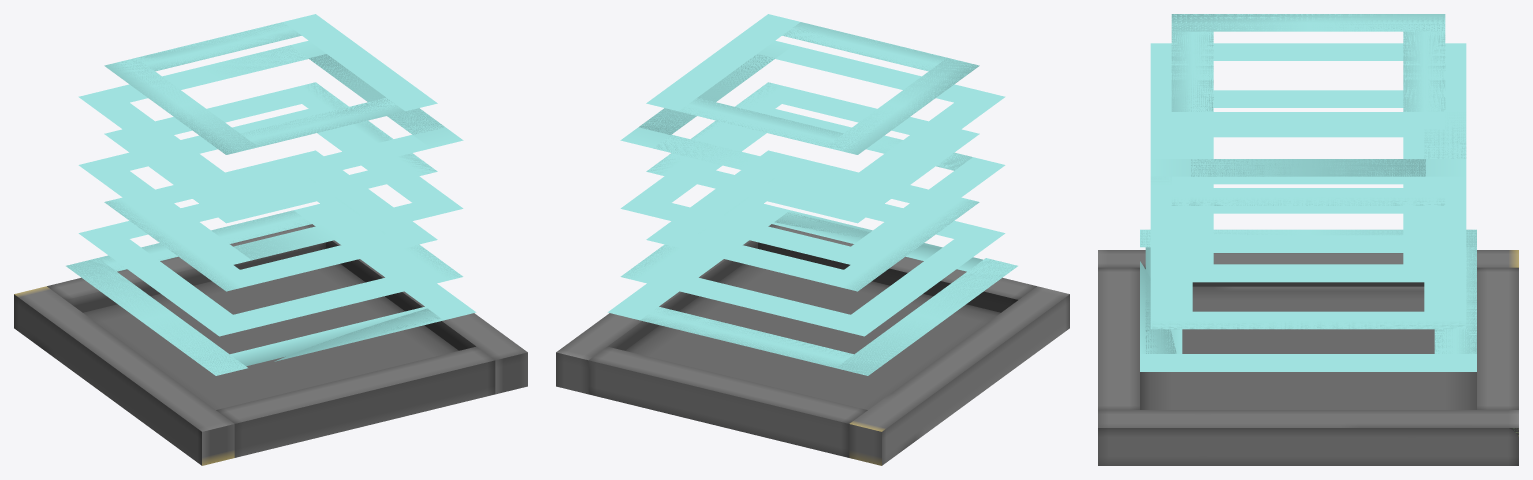
File: rotatePad-lit-0.fbx
3 views of the same model, side by side, from view 1: azimuth 30°, elevation 25°; view 2: azimuth 150°, elevation 25°; view 3: azimuth 270°, elevation 25° (orthographic). The views are drawn at different scales.
Visible parts, largest first — view 1: cube, cube_4, cube_2, cube_5, cube_11, cube_19, cube_26, cube_1, cube_30, cube_32, cube_8, cube_16 (+21 smaller); view 2: cube, cube_3, cube_2, cube_5, cube_11, cube_19, cube_26, cube_1, cube_30, cube_32, cube_7, cube_10 (+21 smaller); view 3: cube, cube_1, cube_6, cube_9, cube_3, cube_4, cube_17, cube_28, cube_15, cube_2, cube_21, cube_30 (+21 smaller).
Boxes of the visible parts, bbox=[...] form: cube: bbox=[83, 264, 458, 409]; cube_4: bbox=[216, 346, 495, 457]; cube_2: bbox=[14, 286, 234, 465]; cube_5: bbox=[66, 258, 247, 375]; cube_11: bbox=[78, 225, 251, 336]; cube_19: bbox=[78, 157, 251, 268]; cube_26: bbox=[78, 89, 251, 199]; cube_1: bbox=[310, 224, 527, 394]; cube_30: bbox=[104, 57, 258, 154]; cube_32: bbox=[283, 14, 437, 111]; cube_8: bbox=[230, 306, 443, 366]; cube_16: bbox=[233, 271, 430, 328]; cube: bbox=[625, 264, 1000, 409]; cube_3: bbox=[588, 346, 867, 457]; cube_2: bbox=[849, 286, 1069, 465]; cube_5: bbox=[836, 258, 1017, 375]; cube_11: bbox=[832, 225, 1005, 336]; cube_19: bbox=[832, 157, 1005, 268]; cube_26: bbox=[832, 89, 1005, 199]; cube_1: bbox=[556, 224, 773, 394]; cube_30: bbox=[825, 57, 979, 154]; cube_32: bbox=[646, 14, 800, 111]; cube_7: bbox=[640, 306, 853, 367]; cube_10: bbox=[653, 271, 850, 328]; cube: bbox=[1140, 286, 1476, 409]; cube_1: bbox=[1098, 410, 1518, 465]; cube_6: bbox=[1140, 354, 1476, 371]; cube_9: bbox=[1150, 311, 1466, 329]; cube_3: bbox=[1477, 267, 1518, 436]; cube_4: bbox=[1098, 267, 1139, 409]; cube_17: bbox=[1150, 235, 1466, 252]; cube_28: bbox=[1150, 159, 1466, 176]; cube_15: bbox=[1171, 264, 1445, 282]; cube_2: bbox=[1098, 250, 1518, 286]; cube_21: bbox=[1171, 188, 1445, 205]; cube_30: bbox=[1171, 14, 1445, 31].
Size of the model in its own units: 62.5 by 50 by 62.5.
